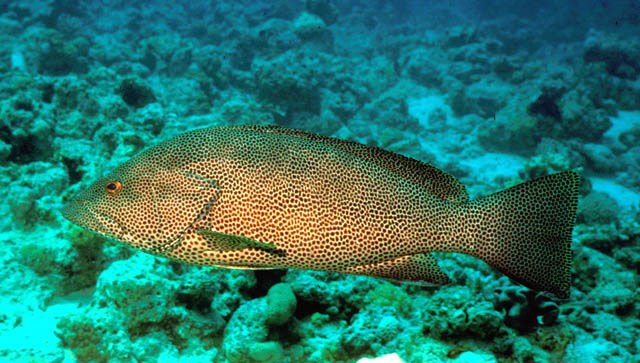fish: (62, 125, 580, 300)
